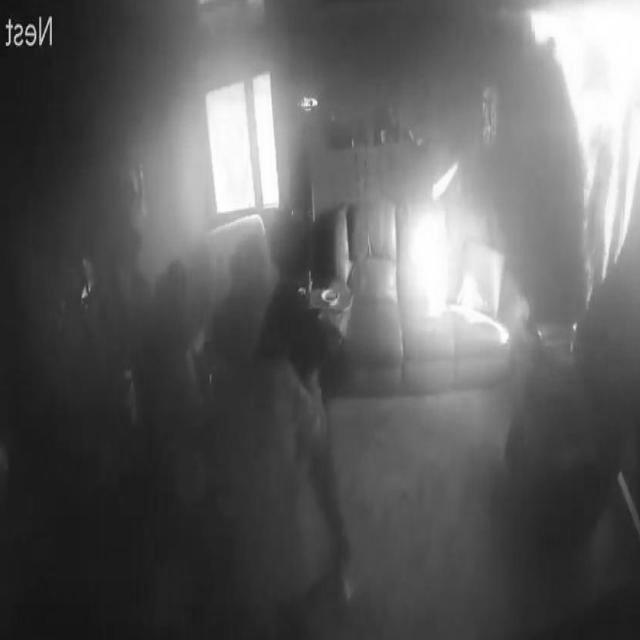smoke: (523, 0, 640, 298)
